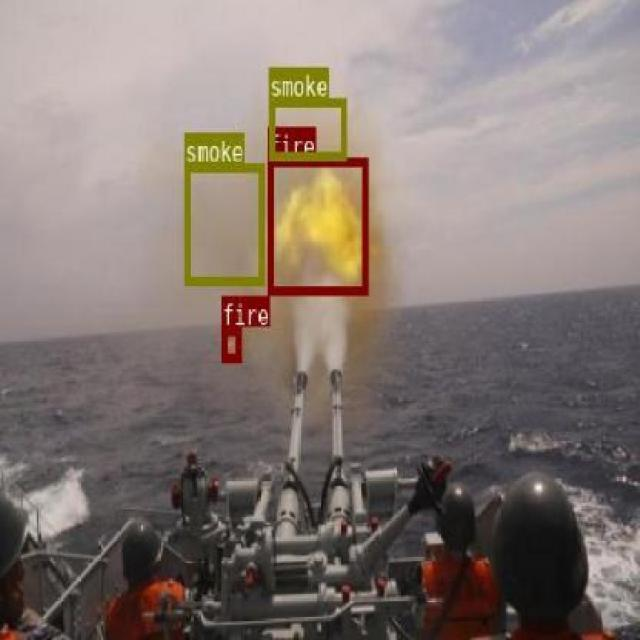fire: (266, 156, 368, 292), (221, 326, 241, 362)
smoke: (183, 162, 263, 282), (268, 98, 346, 158)
